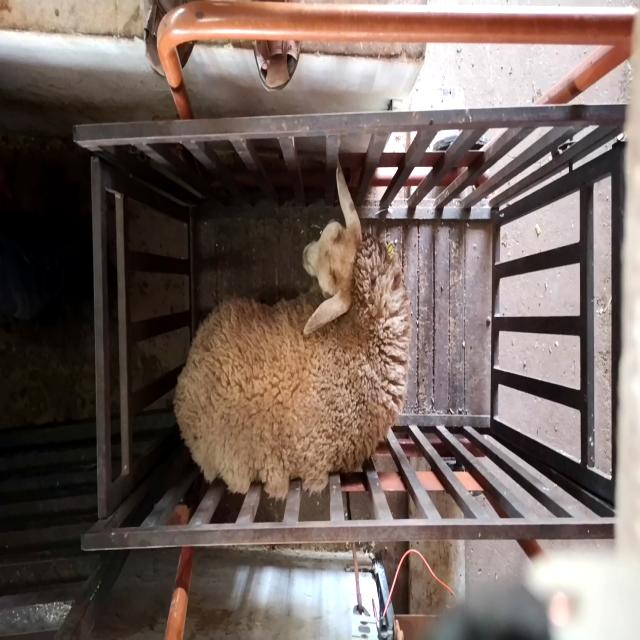sheep: (173, 163, 413, 503)
